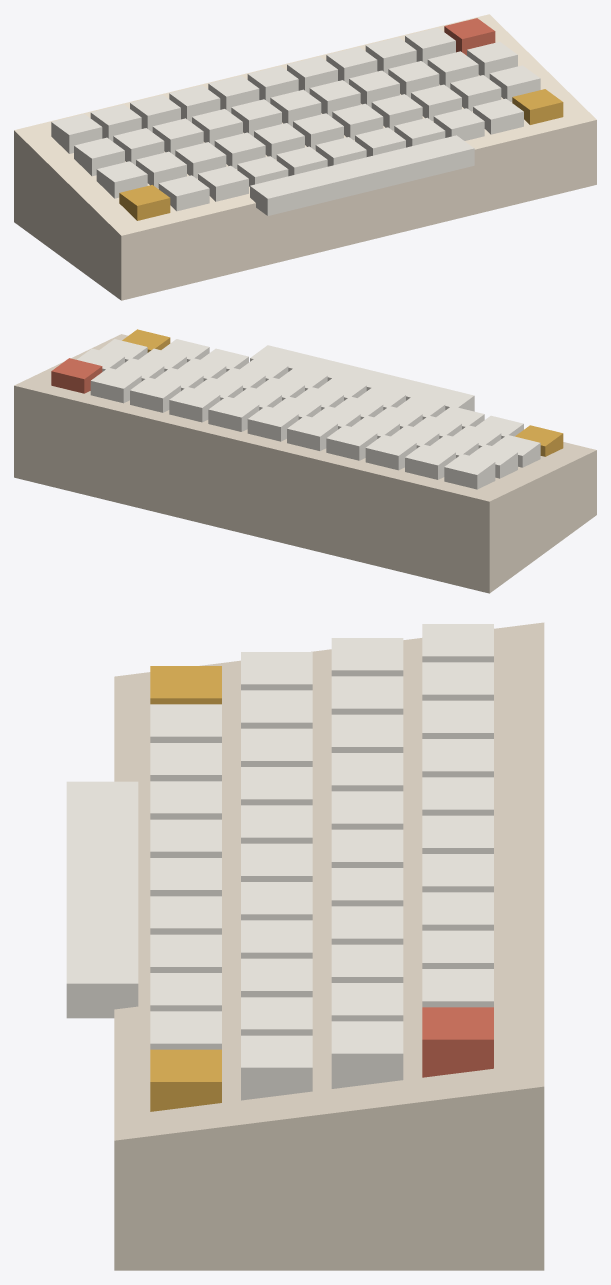
File: retro_keyboard.glb
3 views of the same model, one above another, from view 1: azimuth 30°, elevation 25°; view 2: azimuth 150°, elevation 25°; view 3: azimuth 270°, elevation 25° (orthographic). The views are drawn at different scales.
Visible parts, largest first — view 1: retro_keyboard; view 2: retro_keyboard; view 3: retro_keyboard.
Boxes of the visible parts, <box> form: retro_keyboard: <box>14,14,596,300</box>; retro_keyboard: <box>14,329,596,593</box>; retro_keyboard: <box>66,622,544,1270</box>.
Size of the model in its own units: 0.46 by 0.0955 by 0.2.
